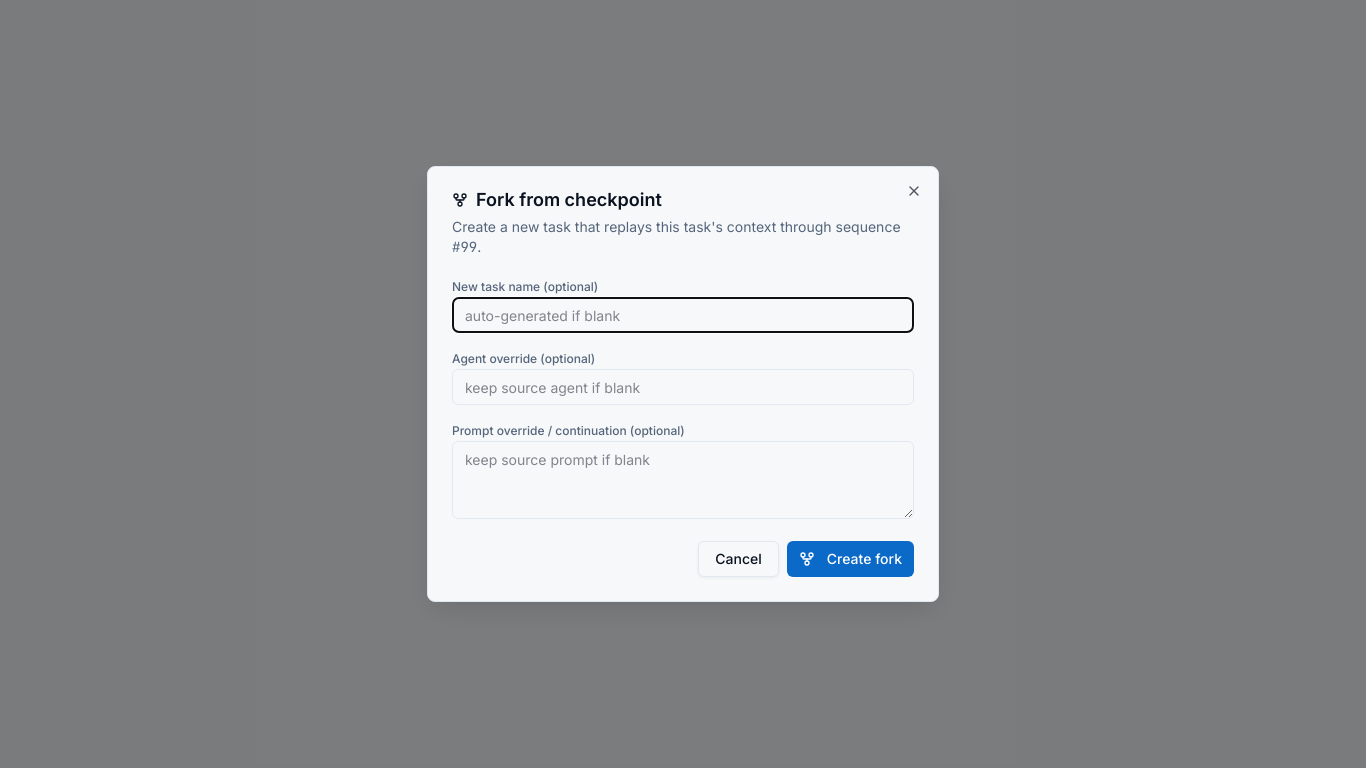
Test: ForkDialog › shows a validation error from the backend
What coordinates should you click on to do the following:
click the button "Create fork"
I would click on:
 (850, 559)
Its box is [787,541,914,577].
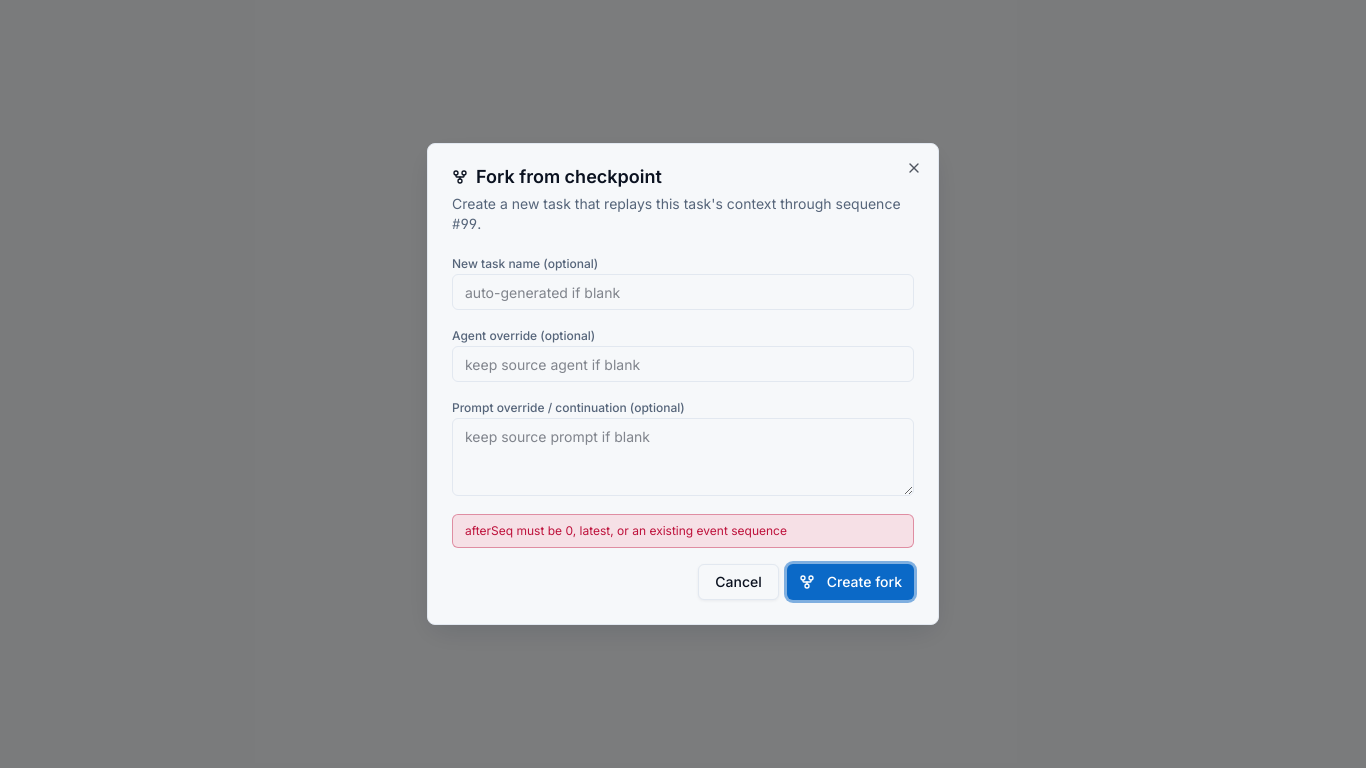
Expected: the text "afterSeq must be 0, latest, or an existing event sequence" is shown, [452,514,914,548]
